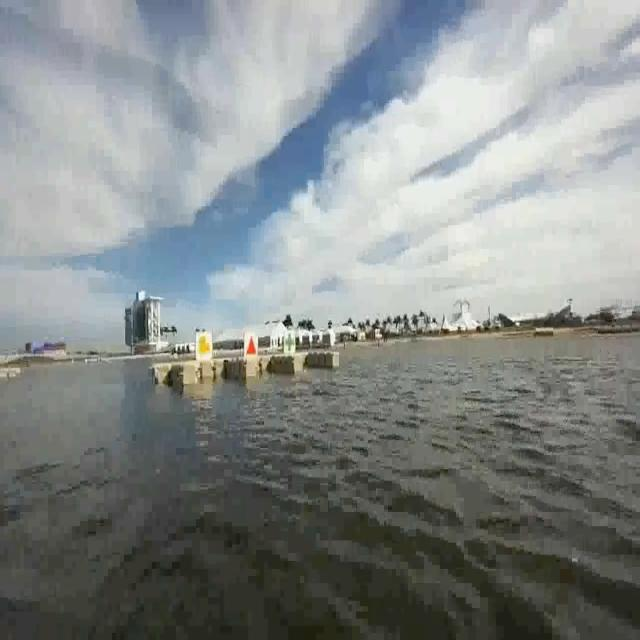blue-cross: (285, 329, 296, 353)
red-dot: (246, 329, 259, 365)
yellow-duck: (196, 335, 211, 363)
